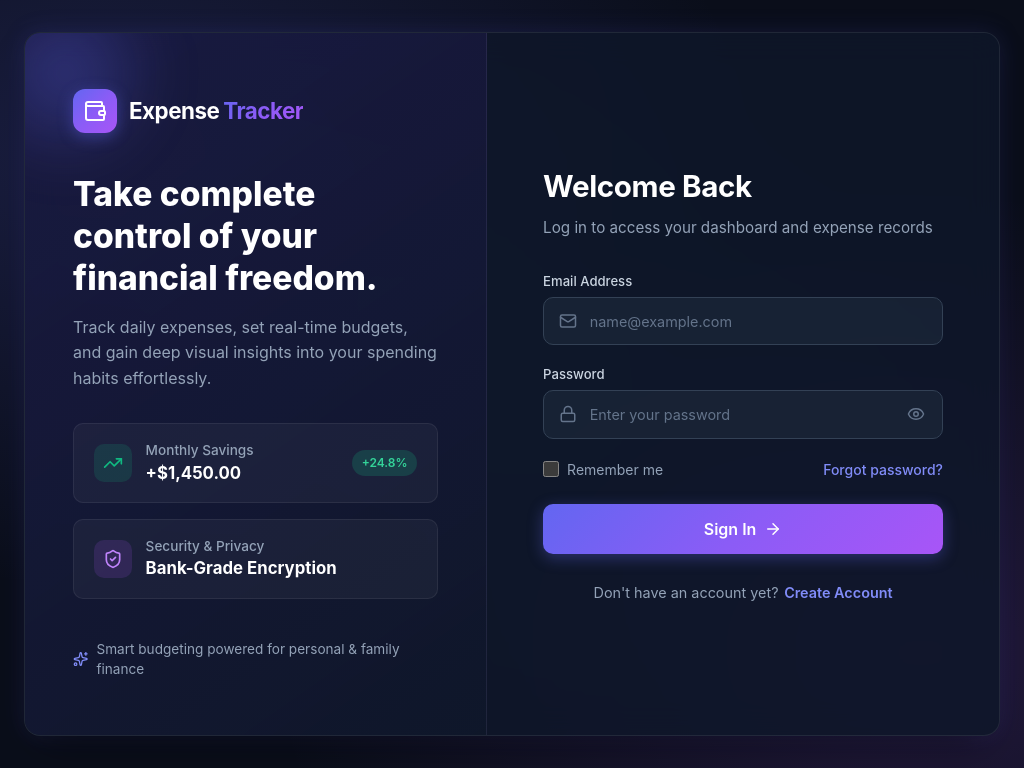
Test case: Login Component › displays validation errors when submitting with empty fields
Step 1. Click the button "Sign In" → (743, 529), box [543,504,943,554]
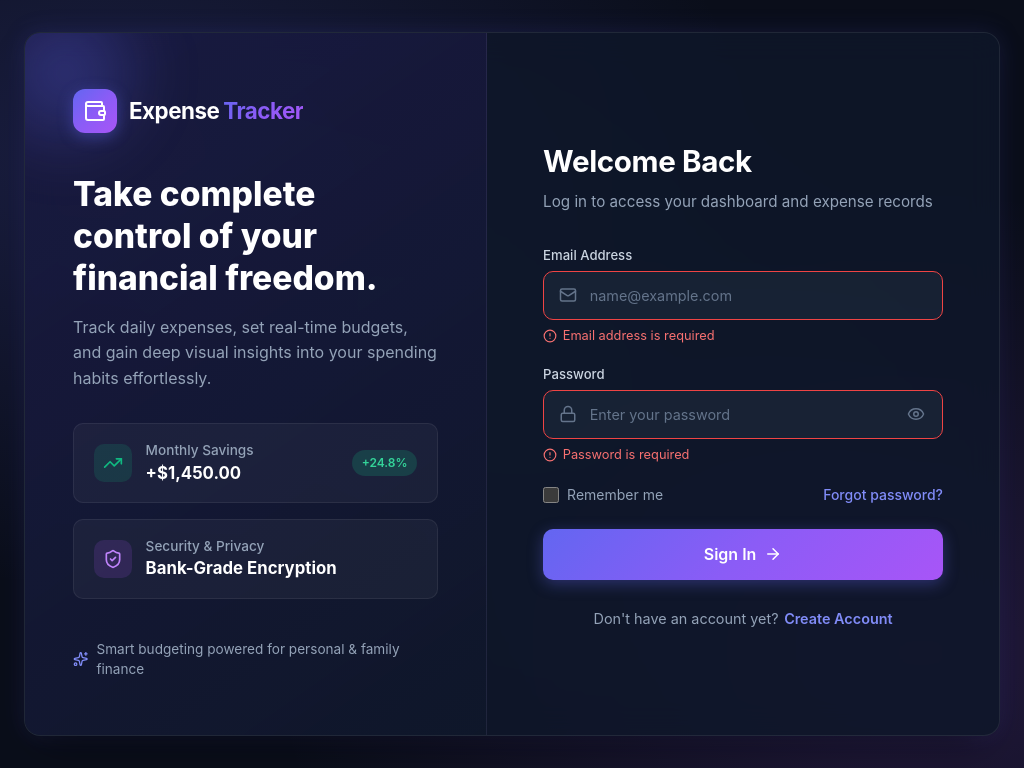
expect the text "Email address is required" is shown: met, box [563,326,714,345]
expect the text "Password is required" is shown: met, box [563,445,690,464]
